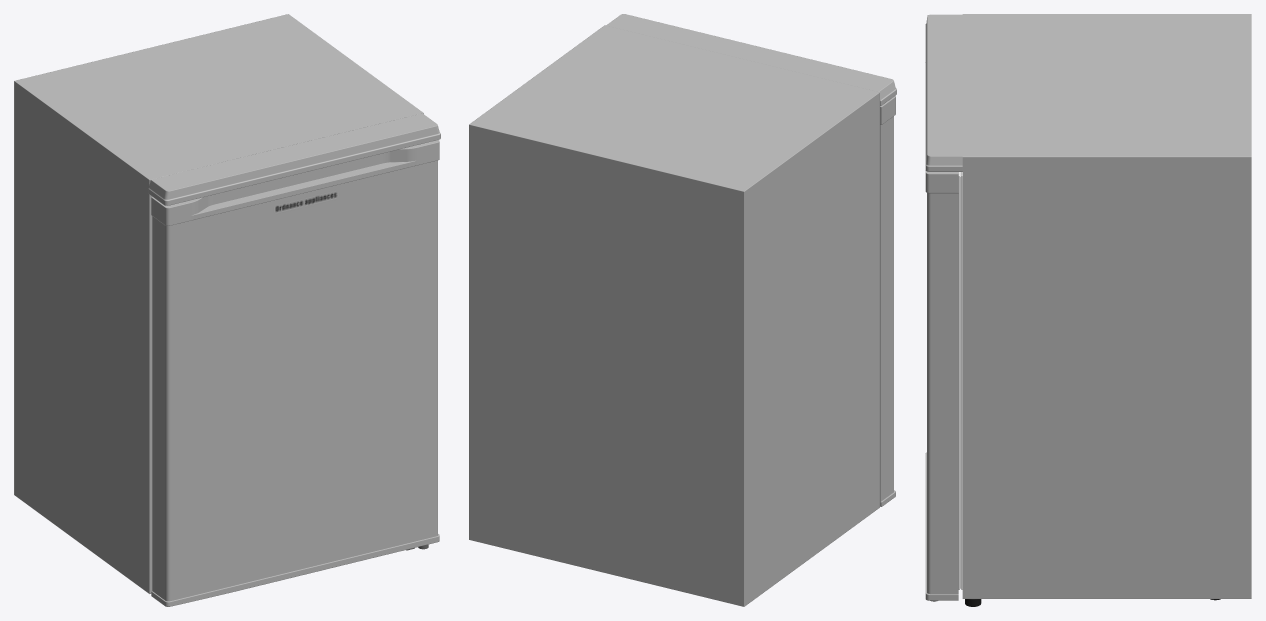
The model's file is Frigobar model.glb.
3 renders of one model, left to right at view 1: azimuth 30°, elevation 25°; view 2: azimuth 150°, elevation 25°; view 3: azimuth 270°, elevation 25°, orthographic. The views are drawn at different scales.
Visible parts, largest first — view 1: door_lp, body_lp, header_lp, doorholder_lp; view 2: body_lp, door_lp, header_lp; view 3: body_lp, door_lp, header_lp, rubber_lp, doorholder_lp.
Boxes of the visible parts, x1,y1,x2,y2 form: door_lp: [151, 160, 439, 606]; body_lp: [14, 14, 423, 593]; header_lp: [148, 113, 440, 205]; doorholder_lp: [151, 140, 439, 225]; body_lp: [469, 25, 879, 606]; door_lp: [880, 116, 895, 506]; header_lp: [606, 14, 896, 105]; body_lp: [962, 14, 1251, 598]; door_lp: [925, 193, 958, 600]; header_lp: [925, 14, 962, 171]; rubber_lp: [958, 172, 962, 589]; doorholder_lp: [925, 170, 958, 193].
Bounding box in the file's own units: 0.5785 × 0.845 × 0.5533.
1 material, 1 textured.
